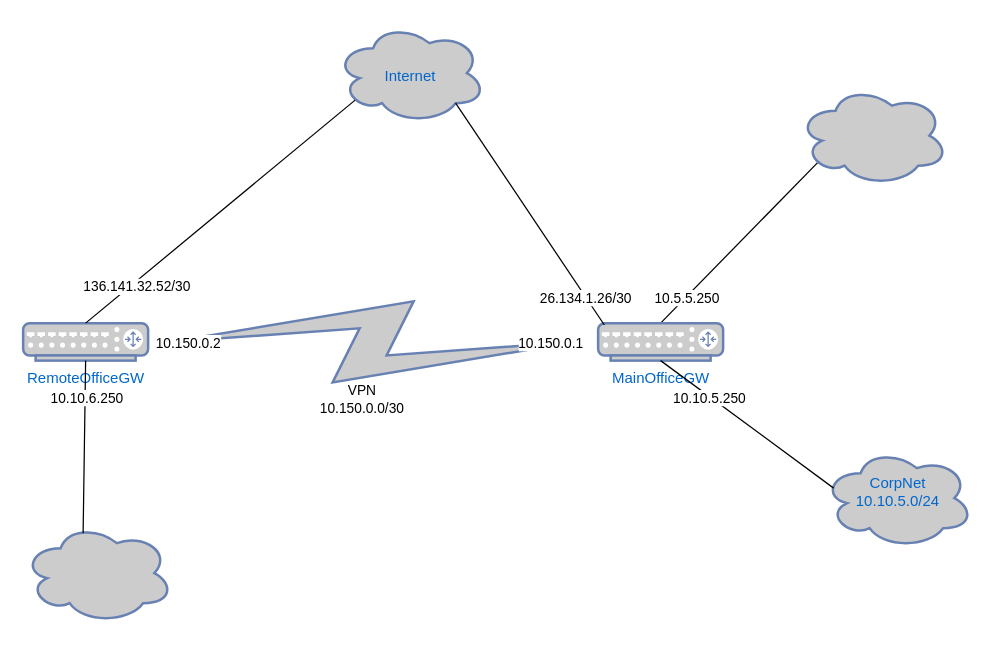
The diagram is 995 pixels wide and 645 high, and some of its shapes have lost their labels. The centre of each missing label's shape, as x and y in pixels:
"DMZ 10.5.5.0/24" goes at pixel 872 135.
"RemoteCorp 10.10.6.0/24" goes at pixel 97 572.
